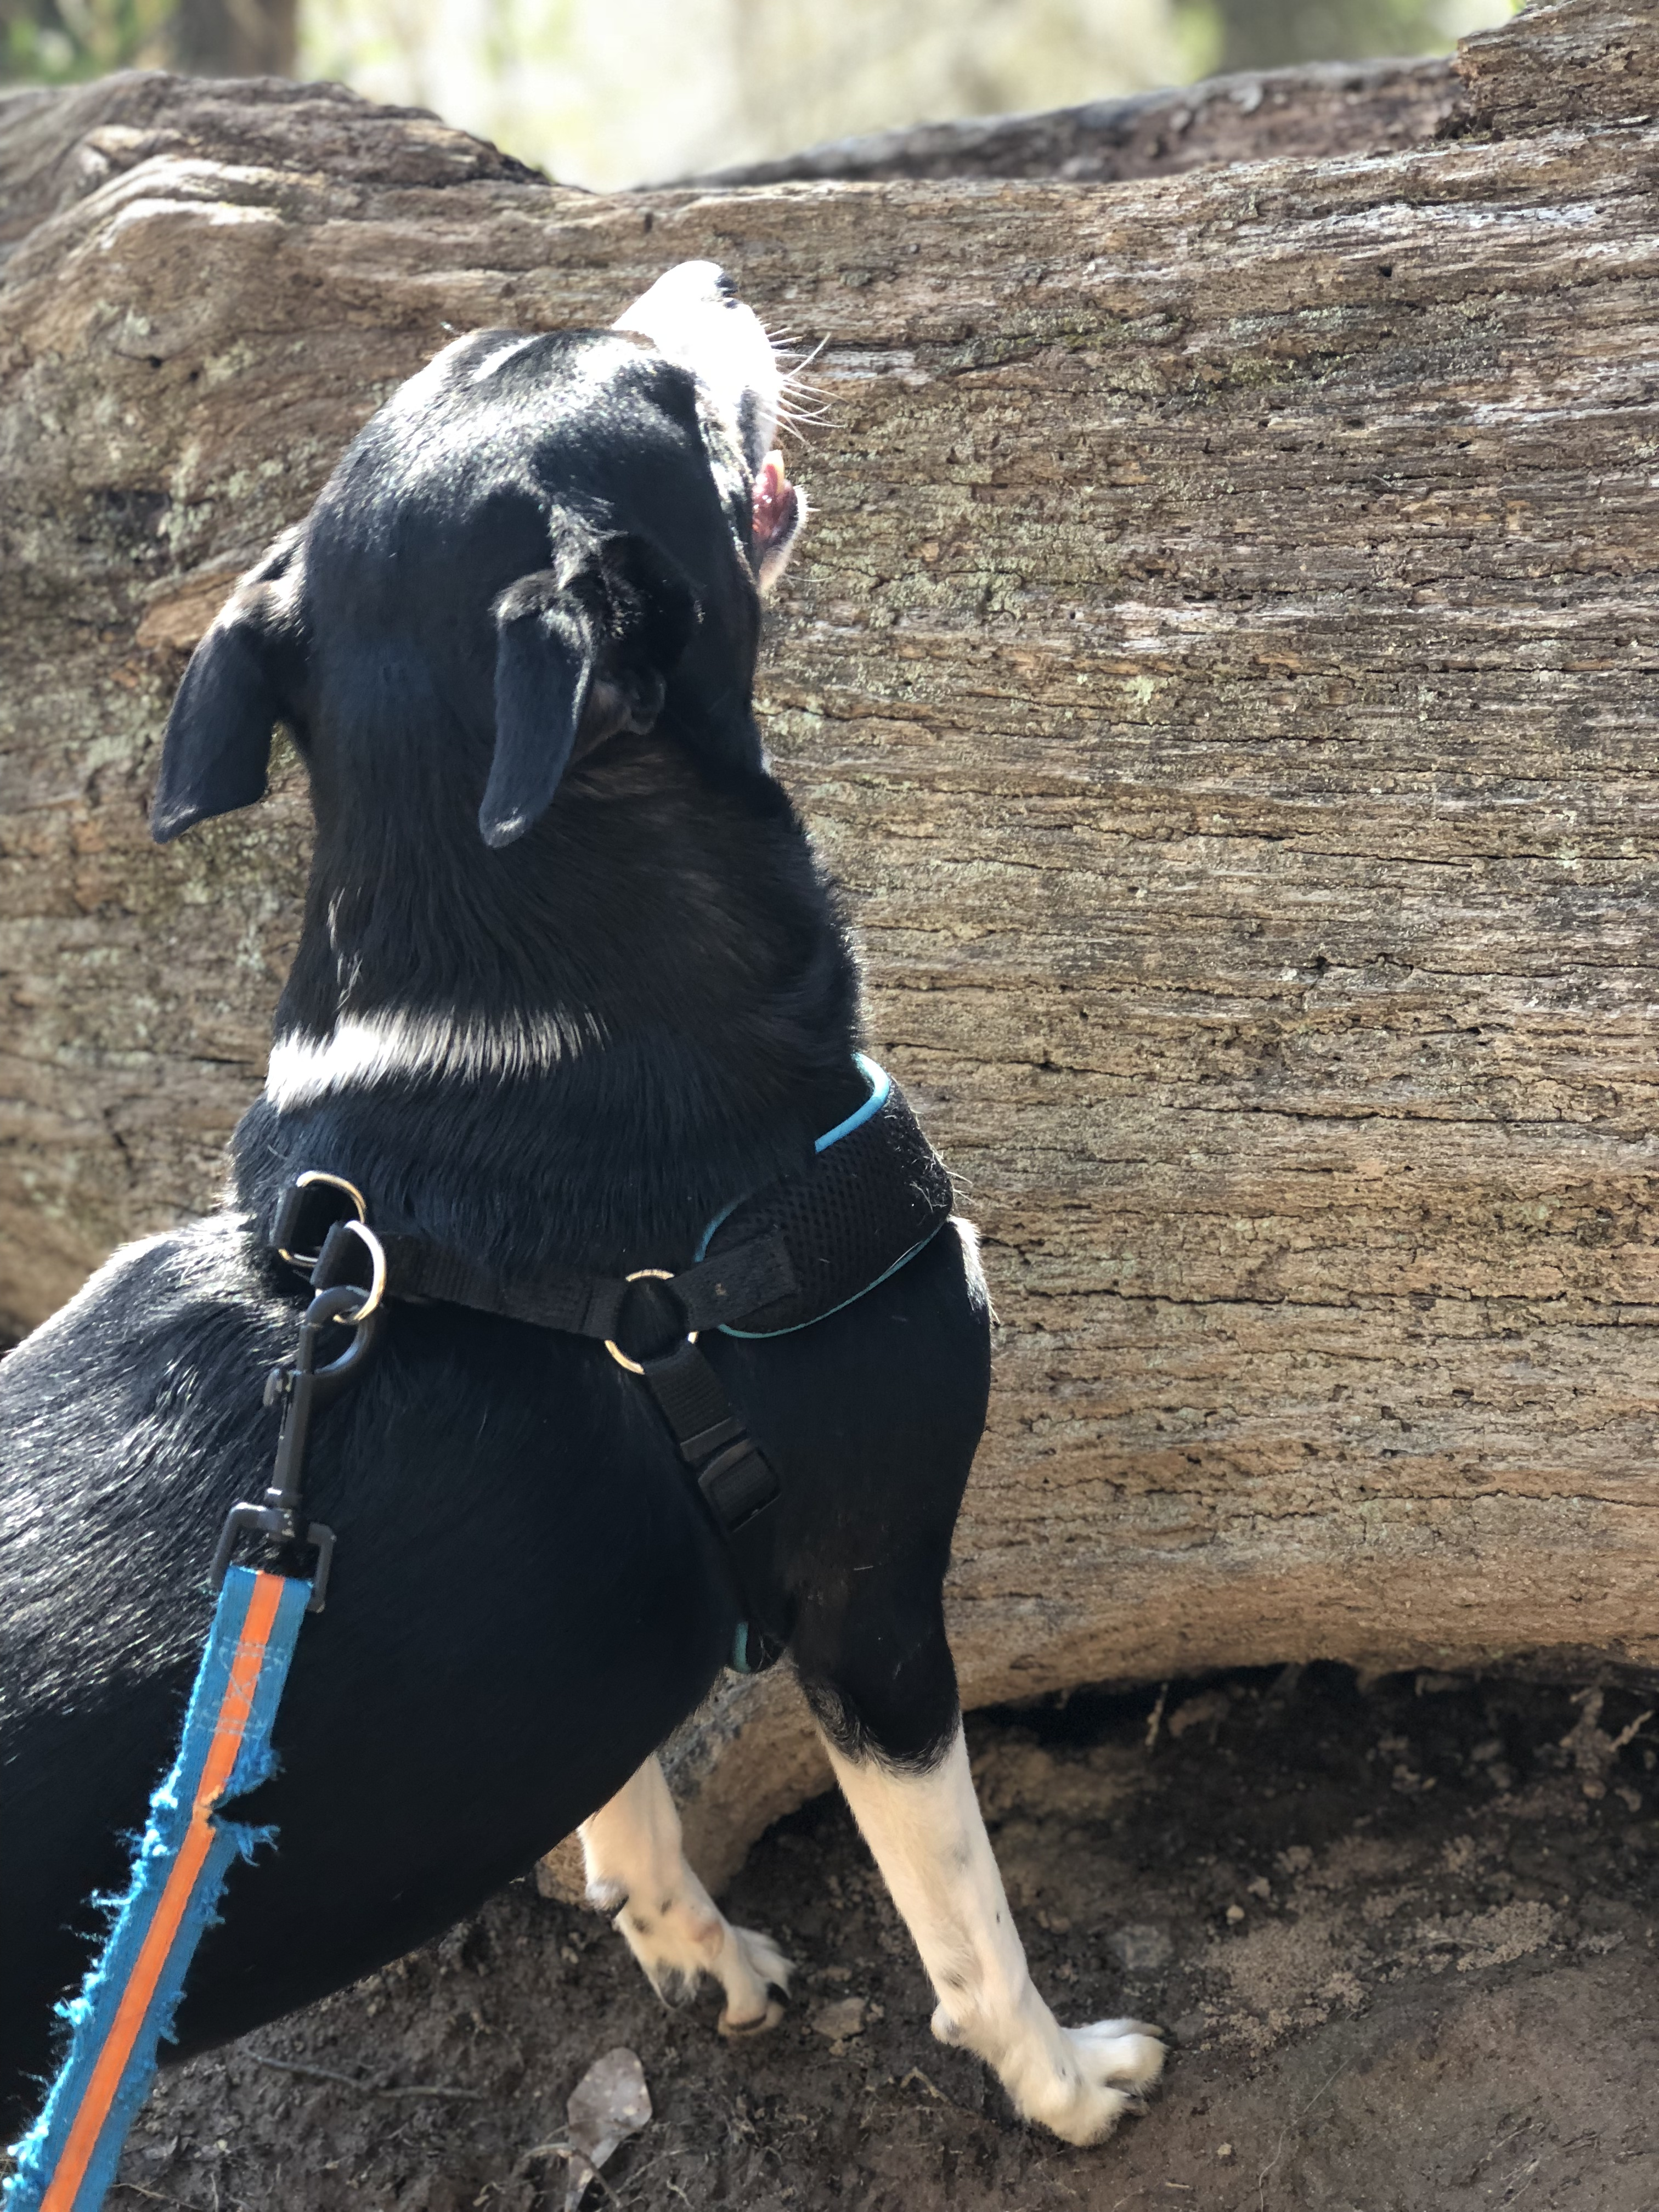Harley: (7, 244, 1145, 2179)
